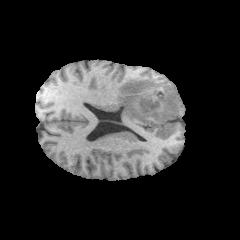glioma: (118, 78, 179, 120)
